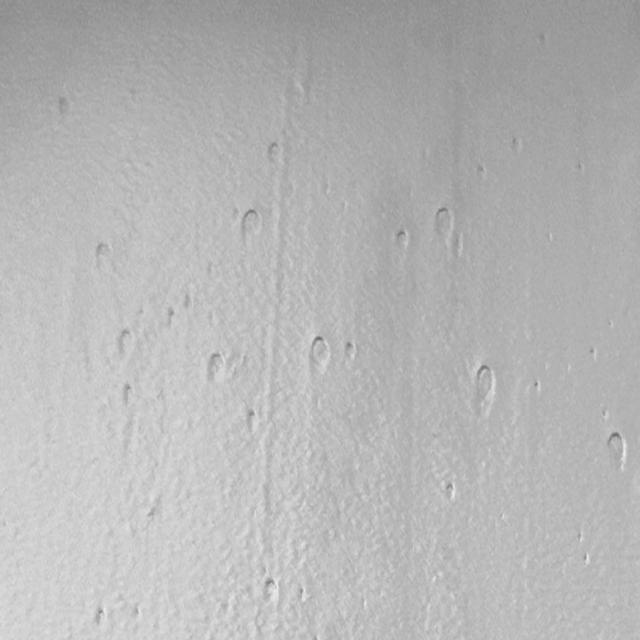pin holes: (470, 362, 499, 412), (602, 429, 630, 470), (432, 207, 457, 247), (306, 335, 330, 373), (239, 210, 264, 241), (205, 352, 228, 384), (115, 327, 135, 360), (92, 241, 114, 268), (91, 605, 111, 632), (264, 142, 284, 168), (54, 95, 74, 120), (391, 228, 410, 254), (242, 409, 260, 436), (260, 578, 278, 604), (120, 382, 136, 408), (442, 479, 458, 504), (343, 341, 359, 366), (508, 136, 525, 156), (164, 307, 178, 327), (295, 585, 309, 605), (586, 344, 600, 362), (183, 295, 196, 314), (131, 605, 144, 623), (476, 164, 488, 183), (544, 230, 557, 246), (531, 379, 543, 396), (581, 552, 593, 569), (575, 160, 587, 177), (598, 406, 609, 424), (606, 316, 618, 331), (575, 532, 586, 546)
